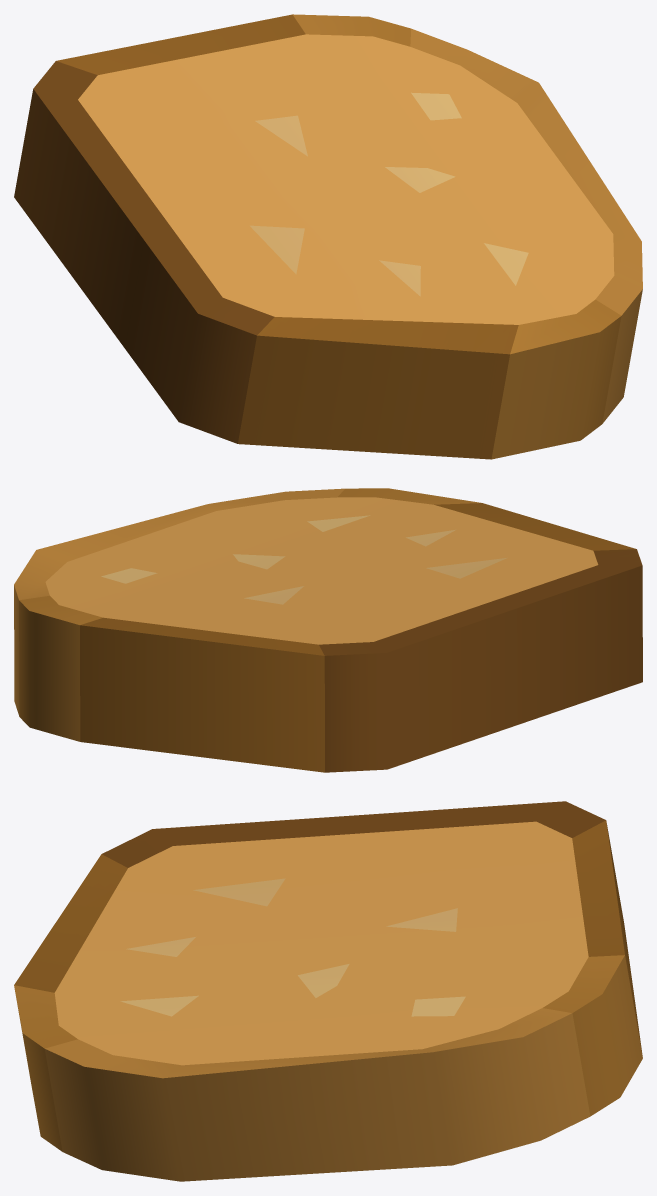
Rendered from BreaadSlice_1_A_001.glb.
The picture shows the model from 3 angles, top to bottom: view 1: azimuth 30°, elevation 25°; view 2: azimuth 150°, elevation 25°; view 3: azimuth 270°, elevation 25°; orthographic projection. The views are drawn at different scales.
Visible parts, largest first — view 1: BreaadSlice_1_A.001; view 2: BreaadSlice_1_A.001; view 3: BreaadSlice_1_A.001.
Part boxes in pixels (<box>): BreaadSlice_1_A.001: <box>14,14,642,459</box>; BreaadSlice_1_A.001: <box>14,488,642,772</box>; BreaadSlice_1_A.001: <box>14,801,642,1181</box>.
Bounding box in the file's own units: 0.2041 × 0.0859 × 0.2337.
1 material, 1 textured.
